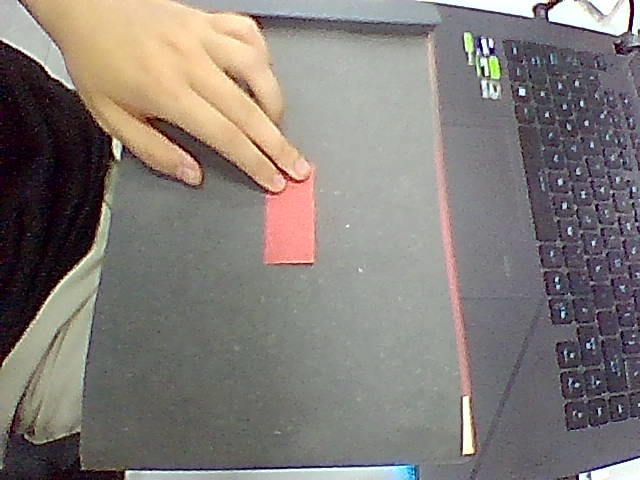card: (264, 168, 315, 264)
